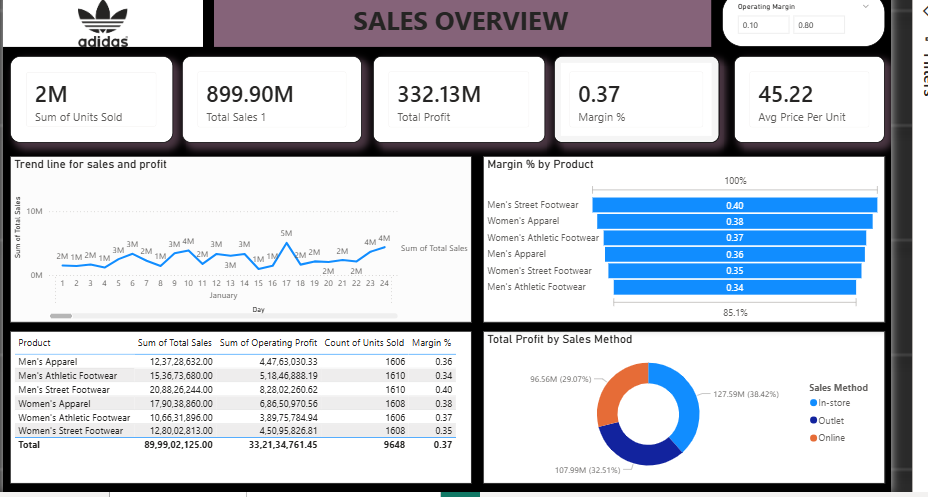

The page's visual inventory and layout, read from the dashboard file:
{"tool":"powerbi","page":{"name":"SALES OVERVIEW ","canvas":[1280,720],"ordinal":0},"visuals":[{"type":"textbox","box":[303.8,10.1,715.7,69.1],"z":0},{"type":"cardVisual","fields":{"Data":["Data Sales Adidas.Total Sales 1"]},"box":[257.8,92.2,259.2,125.3],"z":1000},{"type":"cardVisual","fields":{"Data":["Data Sales Adidas.Total Profit"]},"box":[532.8,92.2,247.7,125.3],"z":2000},{"type":"cardVisual","fields":{"Data":["Data Sales Adidas.Avg Margin %"]},"box":[793.4,92.2,237.6,125.3],"z":3000},{"type":"cardVisual","fields":{"Data":["Data Sales Adidas.Avg Price Per Unit"]},"box":[1052.6,92.2,217.4,125.3],"z":4000},{"type":"cardVisual","fields":{"Data":["Sum(Data Sales Adidas.Units Sold)"]},"box":[10.1,92.2,234.7,125.3],"z":5000},{"type":"lineChart","title":"Trend line for sales and profit ","fields":{"Y":["Sum(Data Sales Adidas.Total Sales)"],"Category":["Data Sales Adidas.Invoice Date.Variation.Date Hierarchy.Month","Data Sales Adidas.Invoice Date.Variation.Date Hierarchy.Day"]},"box":[10.1,236.2,665.3,240.5],"z":6000},{"type":"donutChart","fields":{"Category":["Data Sales Adidas.Sales Method"],"Y":["Data Sales Adidas.Total Profit"]},"box":[691.2,488.2,578.9,220.3],"z":8000},{"type":"funnel","fields":{"Category":["Data Sales Adidas.Product"],"Y":["Data Sales Adidas.Margin %"]},"box":[691.2,236.2,578.9,240.5],"z":9000},{"type":"tableEx","fields":{"Values":["Data Sales Adidas.Product","Sum(Data Sales Adidas.Total Sales)","Sum(Data Sales Adidas.Operating Profit)","CountNonNull(Data Sales Adidas.Units Sold)","Data Sales Adidas.Margin %"]},"box":[10.1,488.2,665.3,220.3],"z":11000},{"type":"slicer","fields":{"Values":["Data Sales Adidas.Operating Margin"]},"box":[1035.4,0,234.7,79.2],"z":11004},{"type":"image","box":[0,10.1,288,69.1],"z":11005}]}

Visuals, with their boxes in screenshot pixels (x1, y1, x2, y2):
textbox: BBox(208, 0, 713, 44)
cardVisual - Data Sales Adidas.Total Sales 1: BBox(175, 53, 358, 142)
cardVisual - Data Sales Adidas.Total Profit: BBox(369, 53, 545, 142)
cardVisual - Data Sales Adidas.Avg Margin %: BBox(554, 53, 722, 142)
cardVisual - Data Sales Adidas.Avg Price Per Unit: BBox(737, 53, 891, 142)
cardVisual - Sum(Data Sales Adidas.Units Sold): BBox(0, 53, 166, 142)
"Trend line for sales and profit " lineChart: BBox(0, 155, 470, 325)
donutChart - Data Sales Adidas.Sales Method x Data Sales Adidas.Total Profit: BBox(481, 333, 891, 489)
funnel - Data Sales Adidas.Product x Data Sales Adidas.Margin %: BBox(481, 155, 891, 325)
tableEx - Data Sales Adidas.Product x Sum(Data Sales Adidas.Total Sales): BBox(0, 333, 470, 489)
slicer - Data Sales Adidas.Operating Margin: BBox(725, 0, 891, 44)
image: BBox(0, 0, 196, 44)
